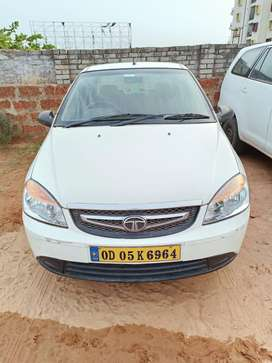OD05K6964: (91, 244, 181, 262)
